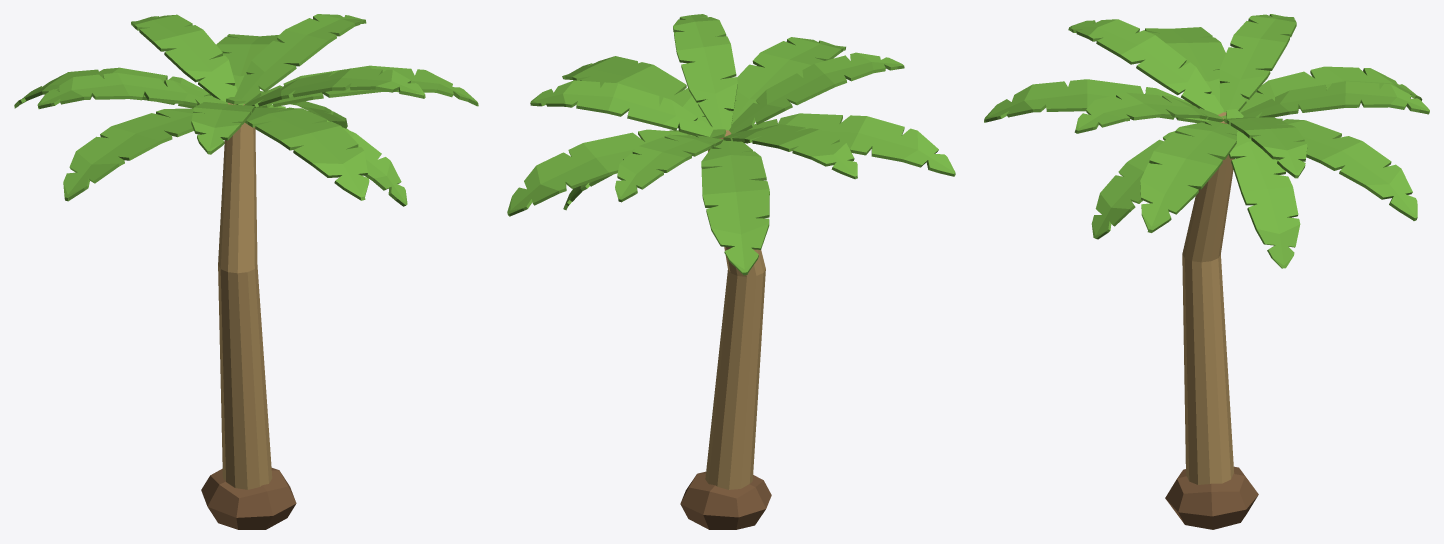
Rendered from tree2.glb.
3 renders of one model, left to right at view 1: azimuth 30°, elevation 25°; view 2: azimuth 150°, elevation 25°; view 3: azimuth 270°, elevation 25°, orthographic. The views are drawn at different scales.
Parts seen in each view (by area): view 1: Plane.001, Cylinder.001; view 2: Plane.001, Cylinder.001; view 3: Plane.001, Cylinder.001.
Part boxes in pixels (x1,y1,x2,y2): Plane.001: (14, 14, 478, 206); Cylinder.001: (201, 102, 296, 529); Plane.001: (507, 14, 955, 275); Cylinder.001: (680, 130, 771, 529); Plane.001: (984, 14, 1429, 268); Cylinder.001: (1165, 112, 1258, 529).
Bounding box in the file's own units: 13.5 × 14.5 × 13.04.
